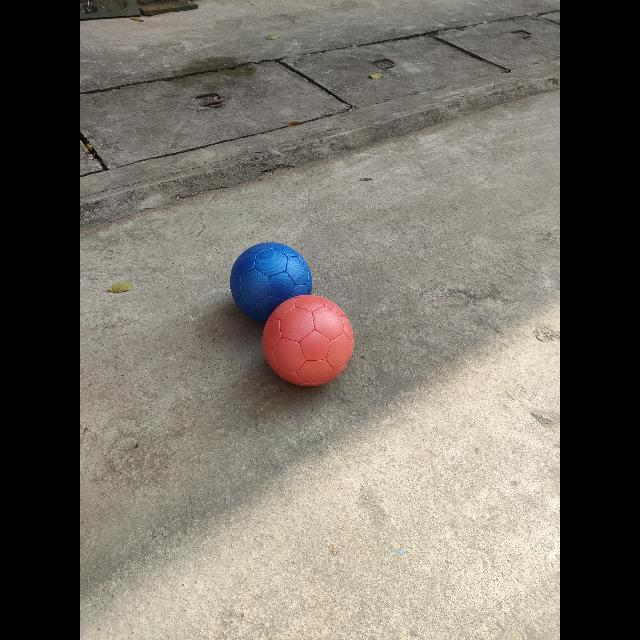B: (230, 242, 312, 322)
R: (262, 295, 354, 386)
